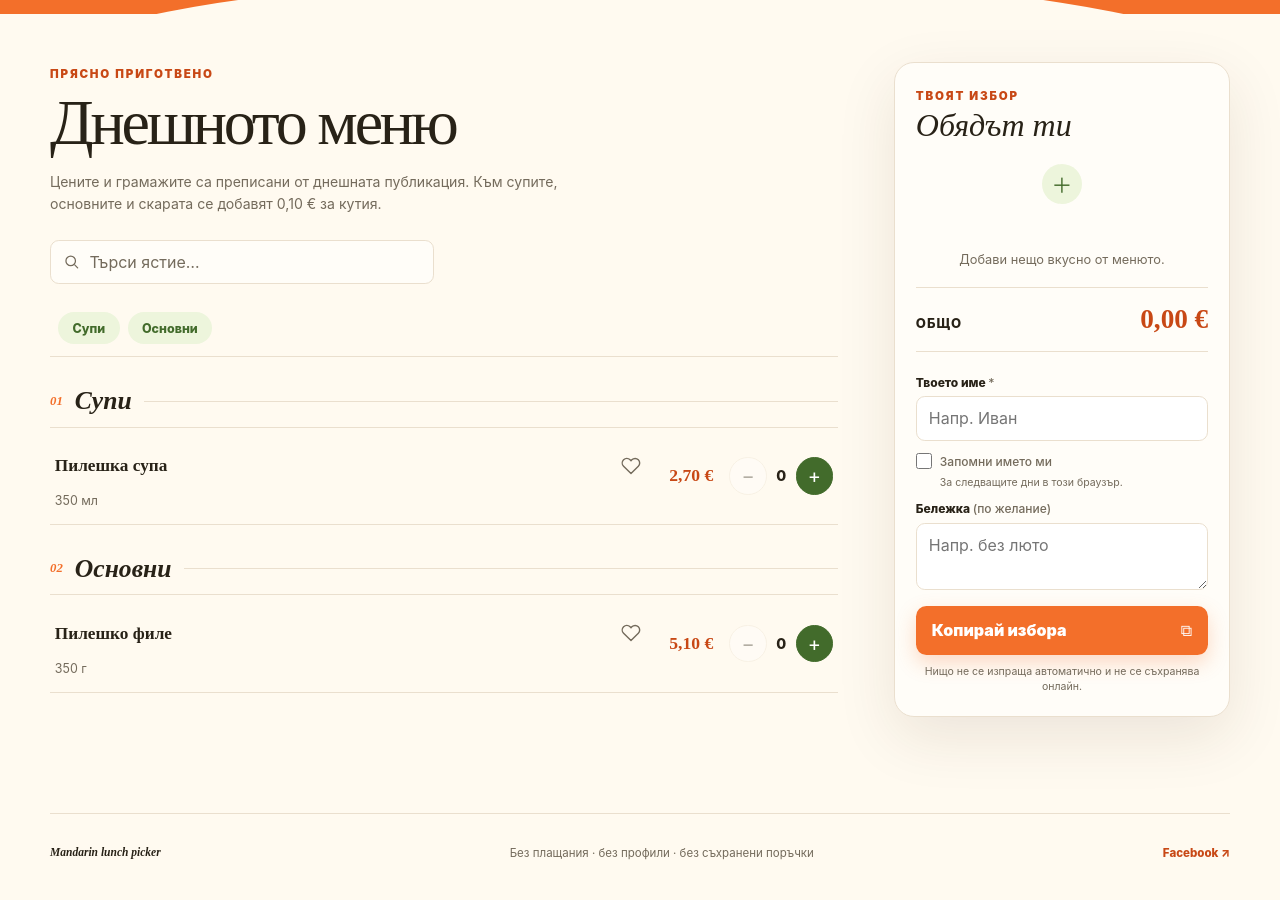
Test: interactive menu › updates quantities and totals using integer cents
(page scrolled)
Click the button named "Добави Пилешка супа". click: (814, 476)
box: [796,457,833,495]
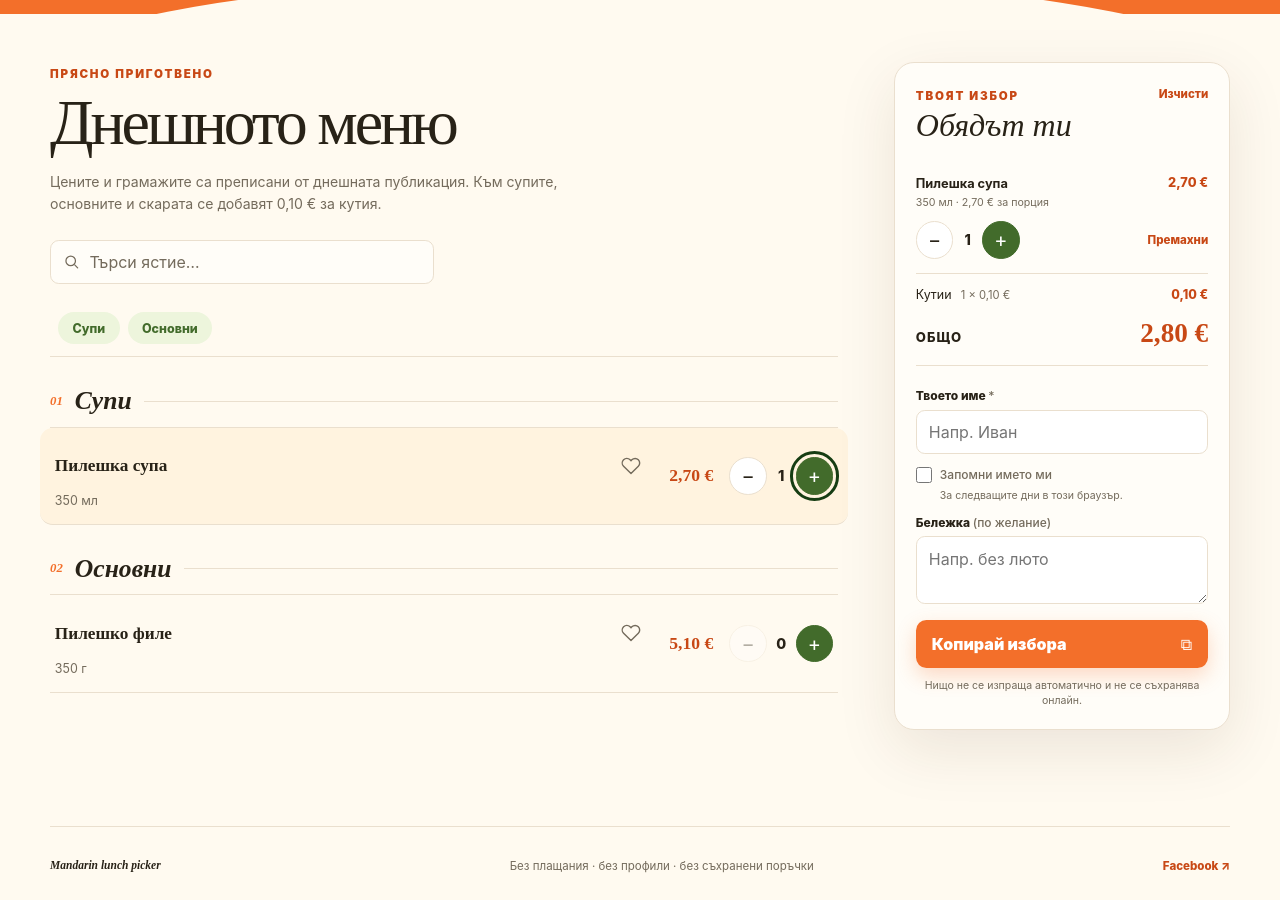
Click the button named "Добави Пилешка супа". click: (814, 476)
box: [796,457,833,495]
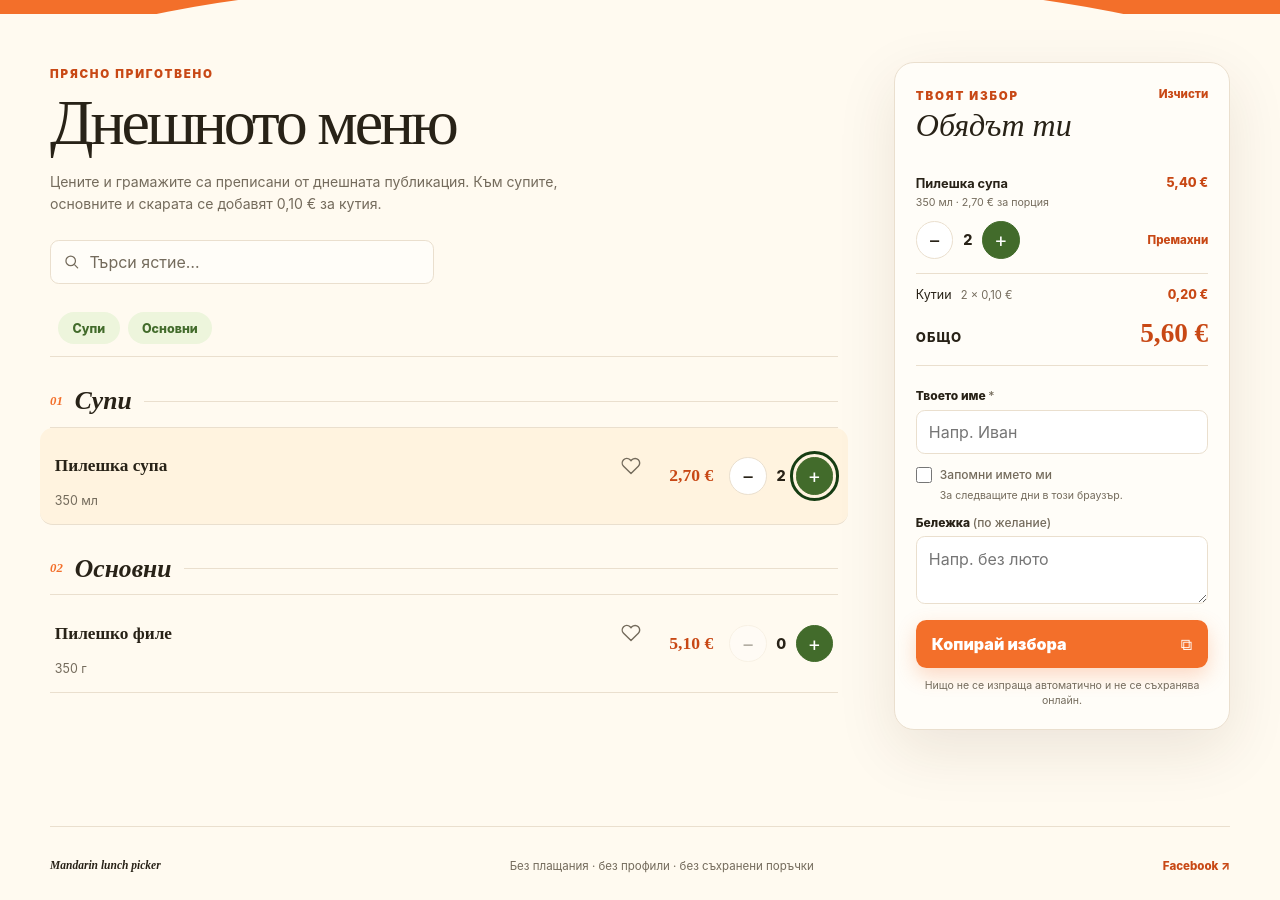
Click the button named "Добави Пилешко филе". click: (814, 644)
box: [796,625,833,662]
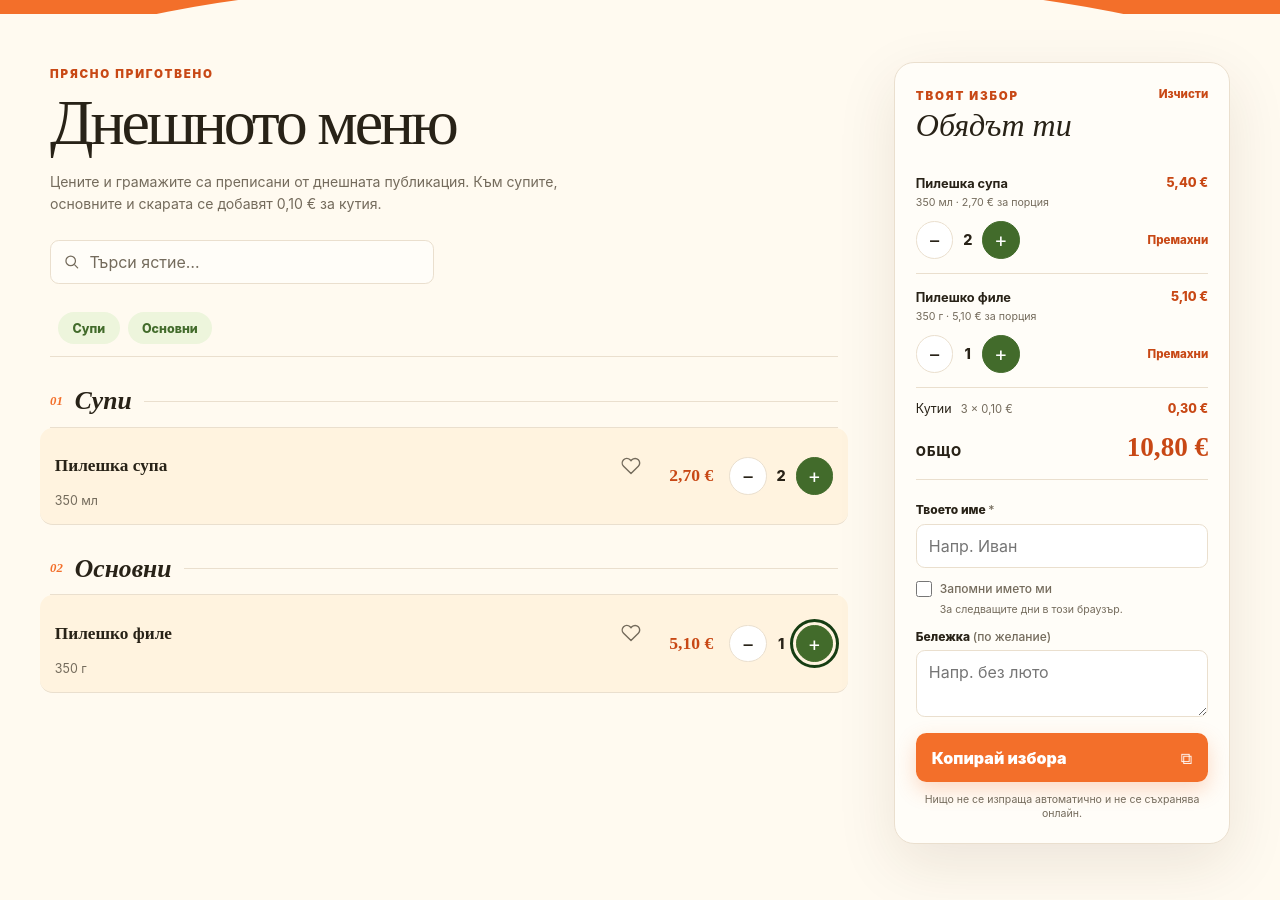
Result: the text named "Избрано количество: 2" reads "2" at [777,467,786,484]
Result: the text "10,80 €" is shown at [1127,432,1208,463]
Result: the text "3 × 0,10 €" is shown at [961,402,1013,416]
Click the button named "Намали Пилешка супа". click: (748, 476)
box: [729,457,767,495]
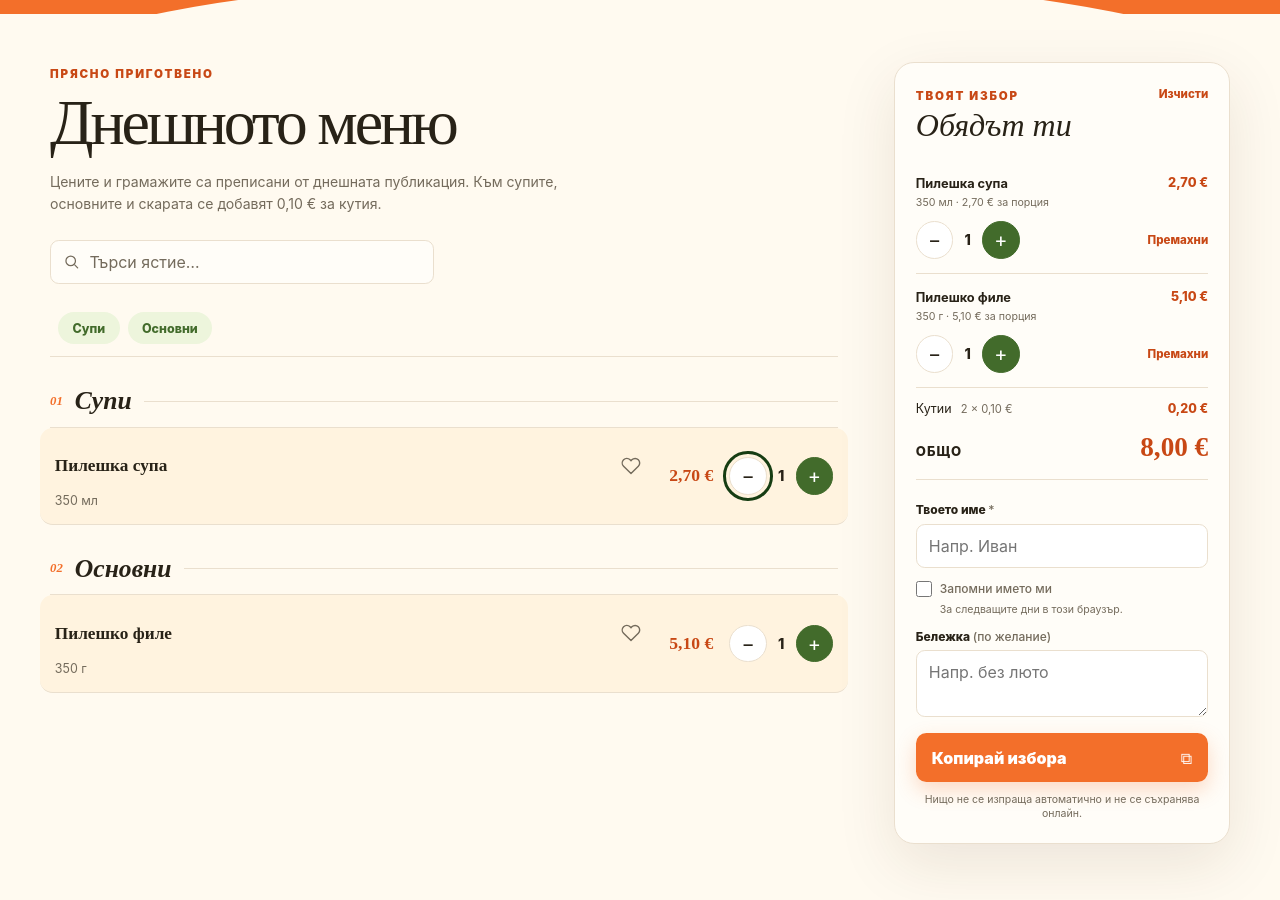
Result: the text "8,00 €" is shown at [1140,432,1208,463]
